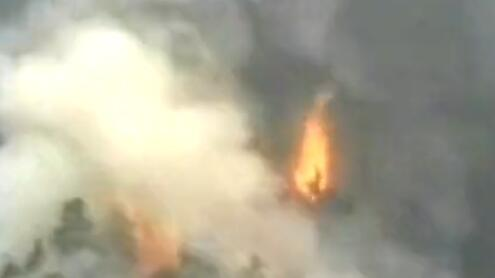fire: (286, 90, 334, 205)
yanwu: (0, 2, 319, 273)
